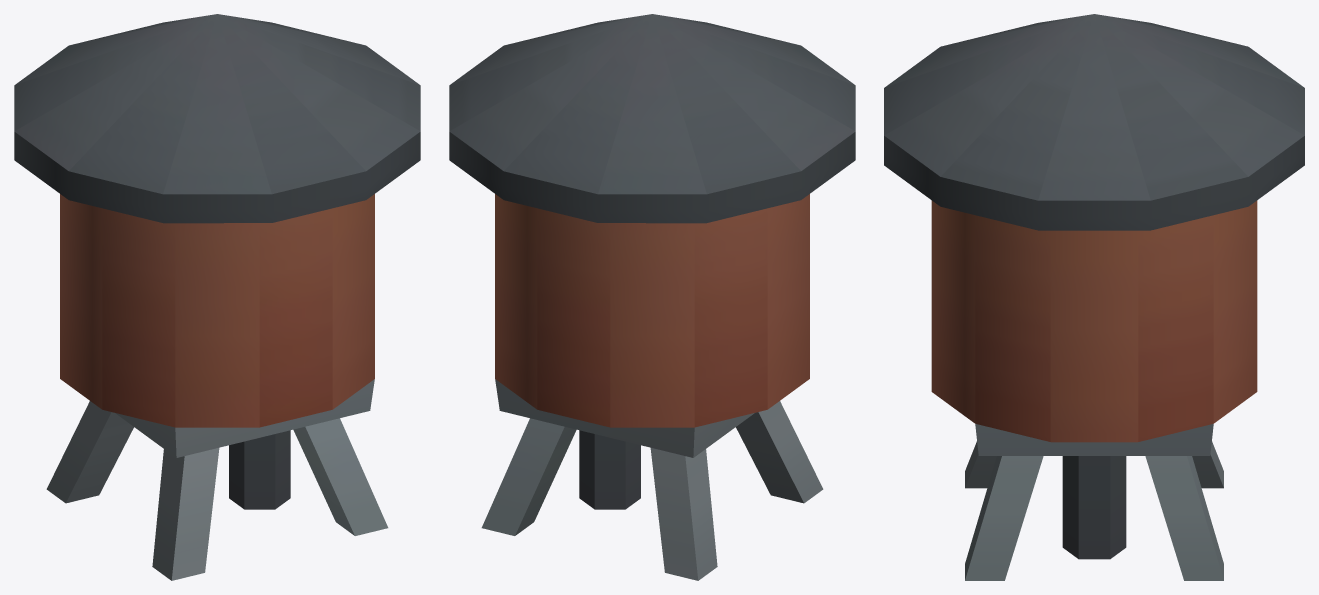
The model's file is kkcity.watertower.glb.
3 renders of one model, left to right at view 1: azimuth 30°, elevation 25°; view 2: azimuth 150°, elevation 25°; view 3: azimuth 270°, elevation 25°, orthographic. The views are drawn at different scales.
Visible parts, largest first — view 1: watertower; view 2: watertower; view 3: watertower.
Part boxes in pixels (x1,y1,x2,y2): watertower: (14, 14, 420, 580); watertower: (449, 14, 855, 580); watertower: (884, 14, 1304, 580).
Bounding box in the file's own units: 2.39 × 3.21 × 2.39.
Materials: 1 (1 with a texture image).
